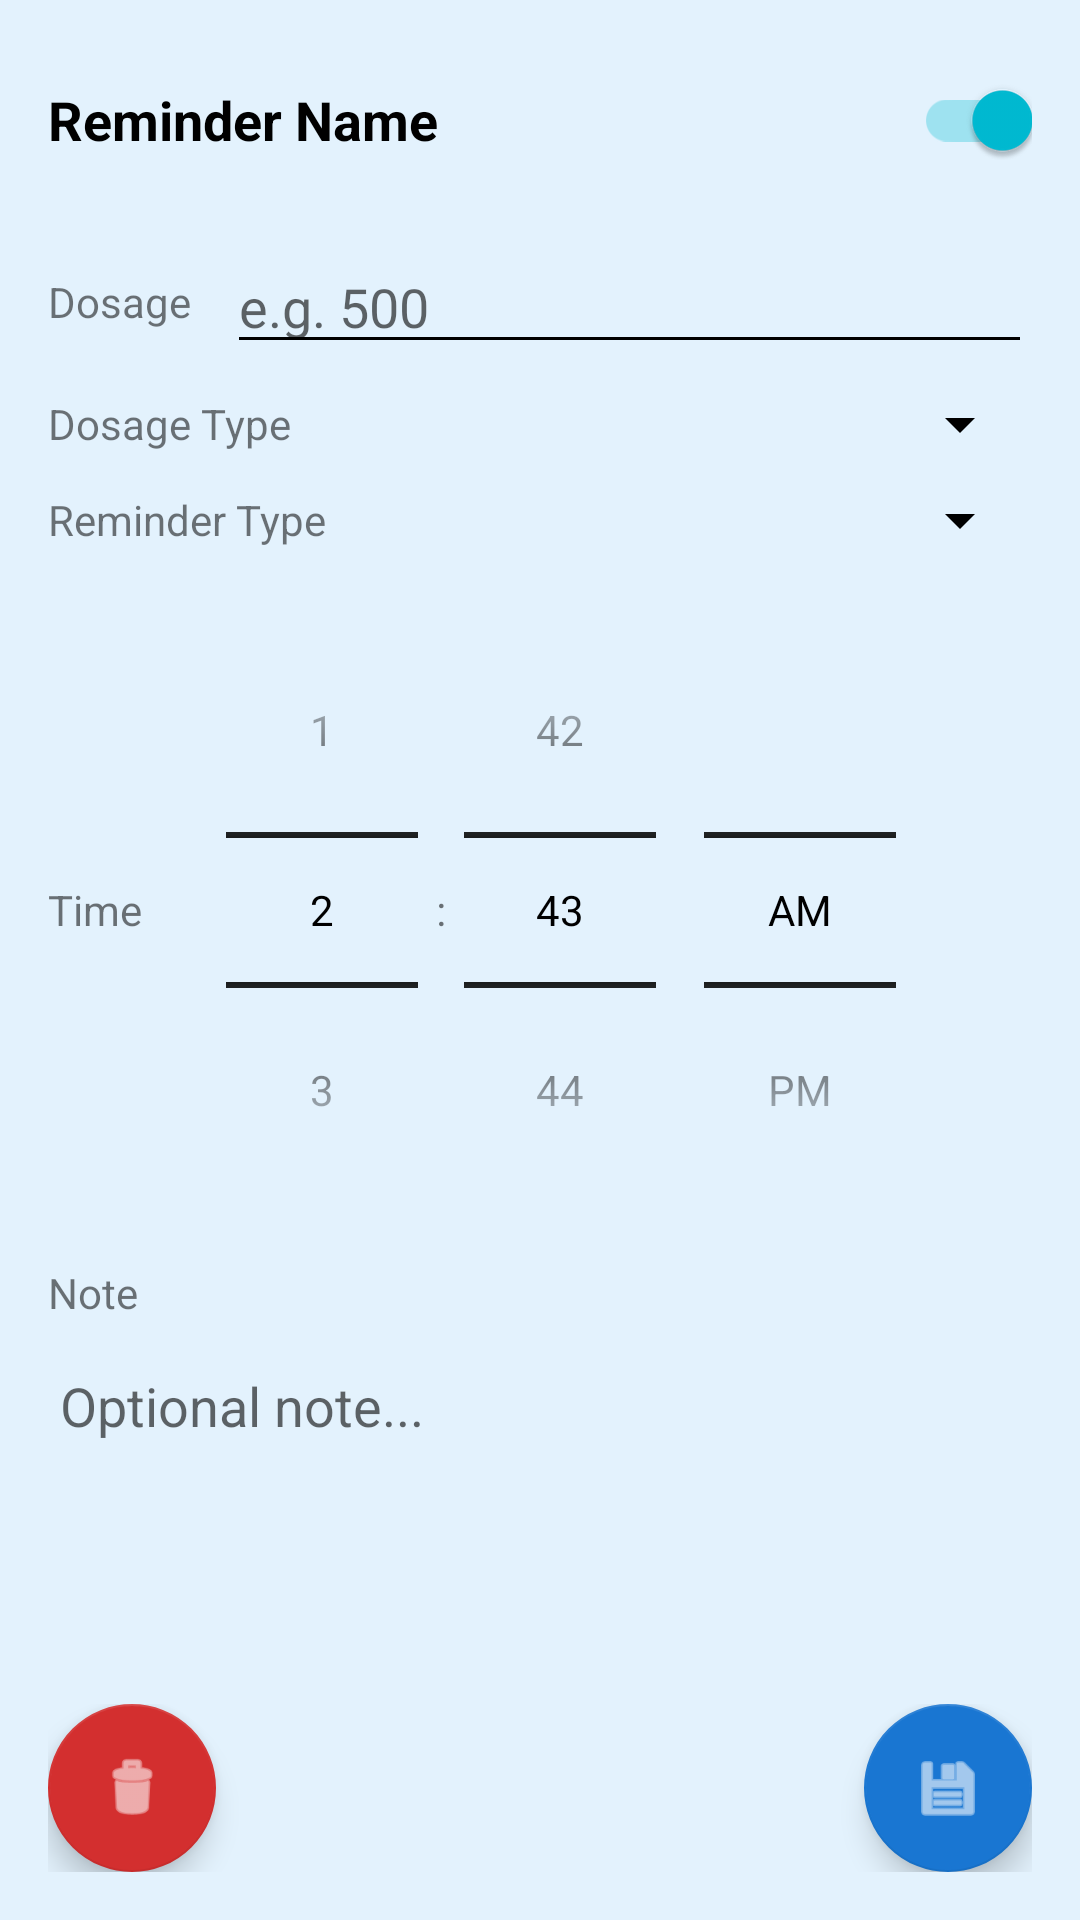

Point at icon controls on the screen. Image size 1080w x 1920h, points as point (x, y).
Delete: point (132, 1788)
Save: point (948, 1788)
